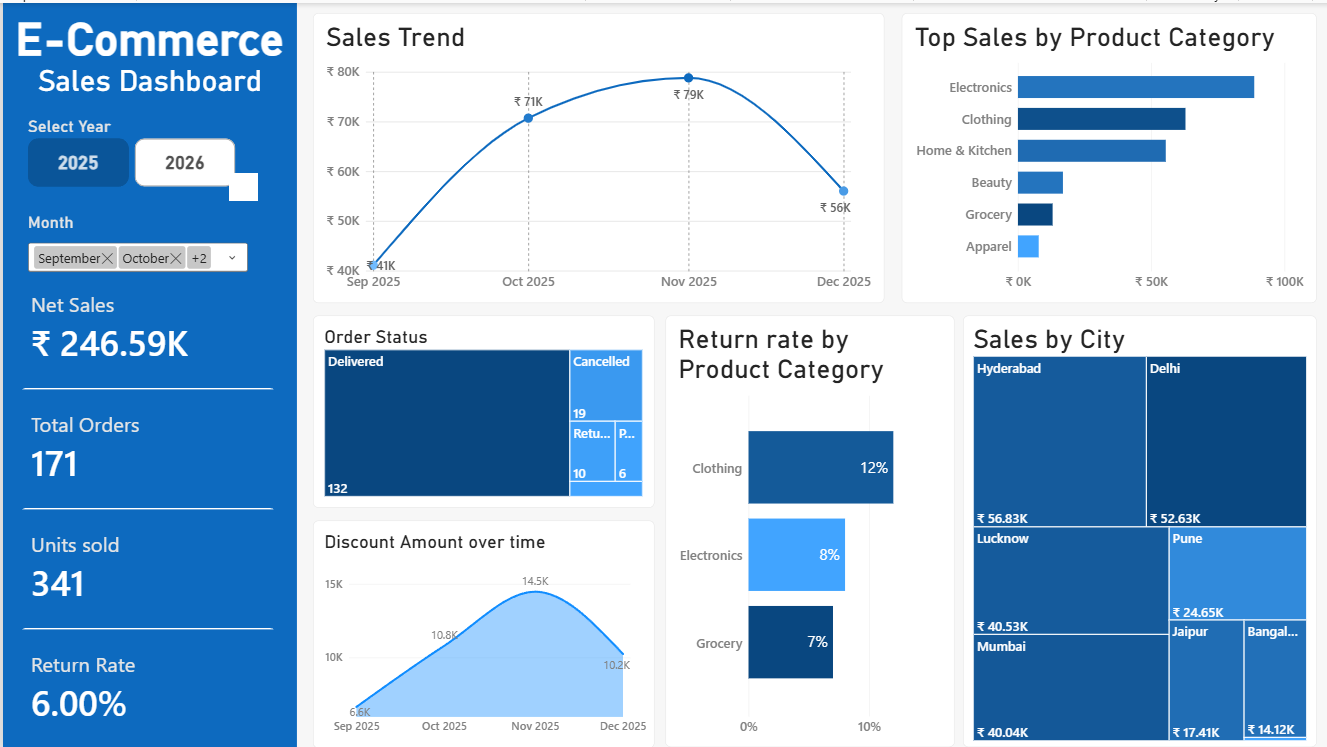

What the dashboard file says about the page in this screenshot:
{"tool":"powerbi","page":{"name":"Page 1","canvas":[1920,1080],"ordinal":0},"visuals":[{"type":"lineChart","title":"Sales Trend","fields":{"Category":["Date Table.order_date.Variation.Date Hierarchy.Year","Date Table.order_date.Variation.Date Hierarchy.Month"],"Y":["Sum(`dbacademy` `e_com` `gold_ecommerce_orders`.sale)"]},"box":[448.8,14.5,827,419.8],"z":0},{"type":"clusteredBarChart","title":"Top Sales by Product Category","fields":{"Category":["`dbacademy` `e_com` `gold_ecommerce_orders`.category"],"Y":["Sum(`dbacademy` `e_com` `gold_ecommerce_orders`.sale)"]},"box":[1301.1,14.5,600.8,419.8],"z":1000},{"type":"treemap","title":"Sales by City","fields":{"Group":["`dbacademy` `e_com` `gold_ecommerce_orders`.city"],"Values":["`dbacademy` `e_com` `gold_ecommerce_orders`.Net Sales"]},"box":[1389.8,452.4,512.1,626.1],"z":2000},{"type":"shape","box":[0,0,425.3,1080.4],"z":4001},{"type":"textbox","box":[0,14.5,425.3,144.8],"z":4002},{"type":"cardVisual","fields":{"Data":["`dbacademy` `e_com` `gold_ecommerce_orders`.Net Sales"]},"box":[14.5,382.9,380,173.7],"z":4003,"group":"g1"},{"type":"cardVisual","fields":{"Data":["`dbacademy` `e_com` `gold_ecommerce_orders`.Total Orders"]},"box":[14.5,556.6,380,173.7],"z":4004,"group":"g1"},{"type":"cardVisual","fields":{"Data":["`dbacademy` `e_com` `gold_ecommerce_orders`.Units sold"]},"box":[14.5,730.4,380,173.7],"z":4005,"group":"g1"},{"type":"cardVisual","fields":{"Data":["`dbacademy` `e_com` `gold_ecommerce_orders`.Return Rate"]},"box":[14.5,904.1,380,173.7],"z":4006,"group":"g1"},{"type":"group","id":"g1","title":"Group 1","box":[14.5,382.9,380,694.9],"z":4007},{"type":"advancedSlicerVisual","title":"Select Year","fields":{"Values":["Date Table.order_date.Variation.Date Hierarchy.Year"]},"box":[36.2,164.7,300.4,101.3],"z":4008},{"type":"listSlicer","fields":{"Values":["Date Table.order_date.Variation.Date Hierarchy.Month"]},"box":[36.2,289.5,334.8,123.1],"z":4009},{"type":"clusteredBarChart","title":"Return rate by Product Category","fields":{"Category":["`dbacademy` `e_com` `gold_ecommerce_orders`.category"],"Y":["`dbacademy` `e_com` `gold_ecommerce_orders`.Return Rate"]},"box":[959.1,452.4,418,626.1],"z":4010},{"type":"areaChart","title":"Discount Amount over time","fields":{"Category":["Date Table.order_date.Variation.Date Hierarchy.Year","Date Table.order_date.Variation.Date Hierarchy.Month"],"Y":["Sum(`dbacademy` `e_com` `gold_ecommerce_orders`.discount_amount)"]},"box":[448.8,749.2,494,331.2],"z":4011},{"type":"treemap","title":"Order Status","fields":{"Group":["`dbacademy` `e_com` `gold_ecommerce_orders`.order_status"],"Values":["CountNonNull(`dbacademy` `e_com` `gold_ecommerce_orders`.order_status)"]},"box":[448.8,452.4,494,278.7],"z":4012}]}

Visuals, with their boxes in screenshot pixels (x1, y1, x2, y2), scaled from the page's 1920x1080 canvas onto the 1327x747 screenshot:
"Sales Trend" lineChart: bbox(310, 10, 882, 300)
"Top Sales by Product Category" clusteredBarChart: bbox(899, 10, 1314, 300)
"Sales by City" treemap: bbox(961, 313, 1314, 746)
shape: bbox(0, 0, 294, 746)
textbox: bbox(0, 10, 294, 110)
cardVisual - `dbacademy` `e_com` `gold_ecommerce_orders`.Net Sales: bbox(10, 265, 273, 385)
cardVisual - `dbacademy` `e_com` `gold_ecommerce_orders`.Total Orders: bbox(10, 385, 273, 505)
cardVisual - `dbacademy` `e_com` `gold_ecommerce_orders`.Units sold: bbox(10, 505, 273, 625)
cardVisual - `dbacademy` `e_com` `gold_ecommerce_orders`.Return Rate: bbox(10, 625, 273, 745)
"Group 1" group: bbox(10, 265, 273, 745)
"Select Year" advancedSlicerVisual: bbox(25, 114, 233, 184)
listSlicer - Date Table.order_date.Variation.Date Hierarchy.Month: bbox(25, 200, 256, 285)
"Return rate by Product Category" clusteredBarChart: bbox(663, 313, 952, 746)
"Discount Amount over time" areaChart: bbox(310, 518, 652, 746)
"Order Status" treemap: bbox(310, 313, 652, 506)
